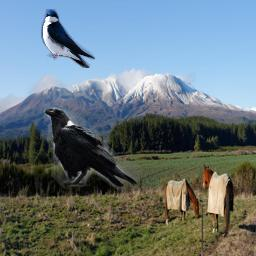Crow: (44, 104, 140, 191)
Swallow: (41, 9, 95, 68)
